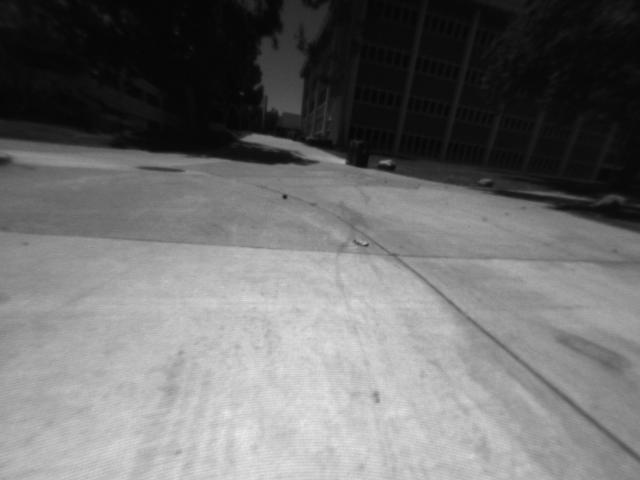dogtoy: (278, 187, 293, 203)
